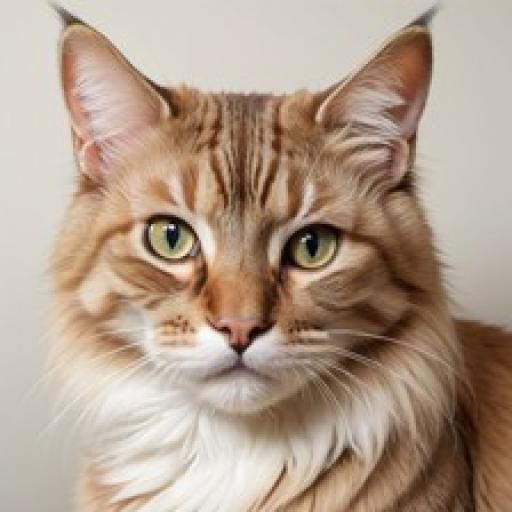cat: (42, 4, 512, 512)
